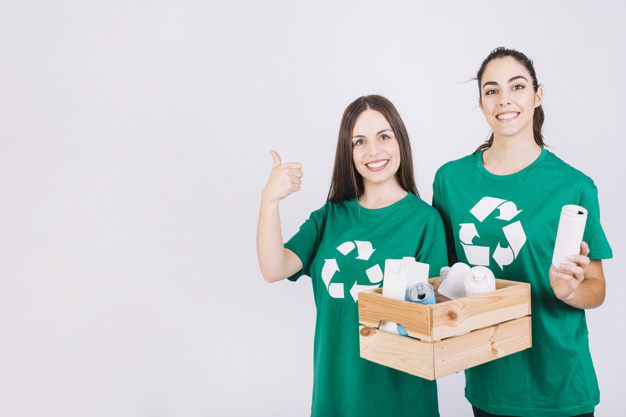thumbsup: (270, 150, 303, 192)
